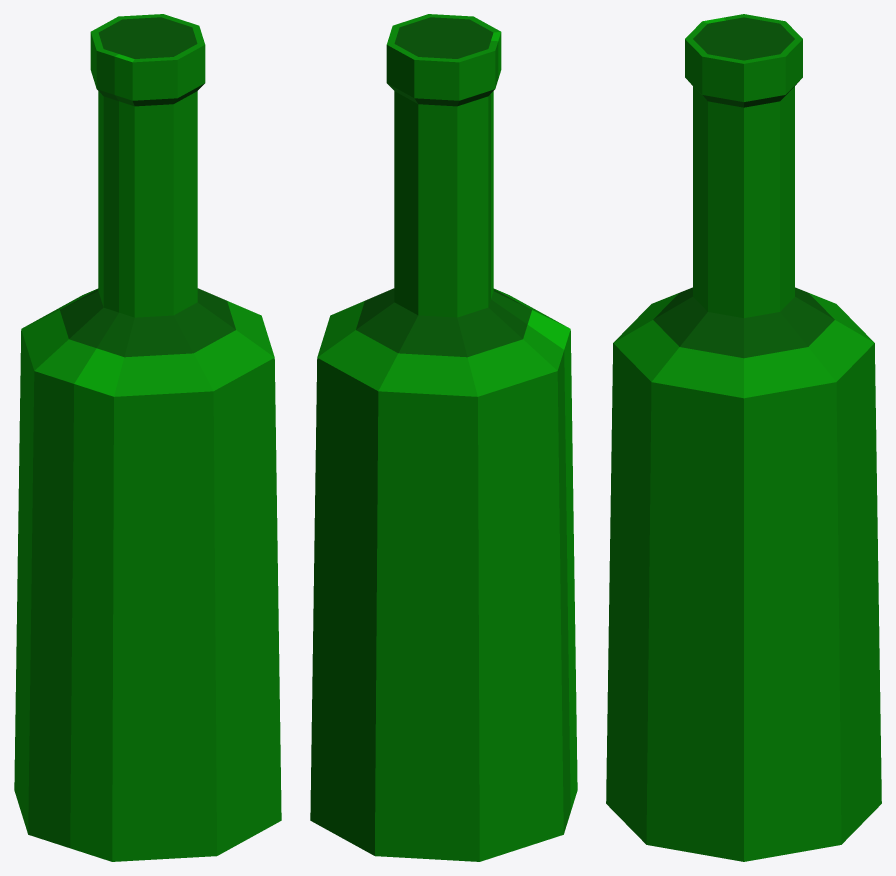
File: bottle glass.fbx
3 renders of one model, left to right at view 1: azimuth 30°, elevation 25°; view 2: azimuth 150°, elevation 25°; view 3: azimuth 270°, elevation 25°, orthographic.
Visible parts, largest first — view 1: bottle; view 2: bottle; view 3: bottle.
Boxes of the visible parts, x1,y1,x2,y2 form: bottle: [14, 14, 281, 861]; bottle: [310, 14, 577, 861]; bottle: [606, 14, 881, 861].
Bounding box in the file's own units: 64.67 × 198 × 64.67.
